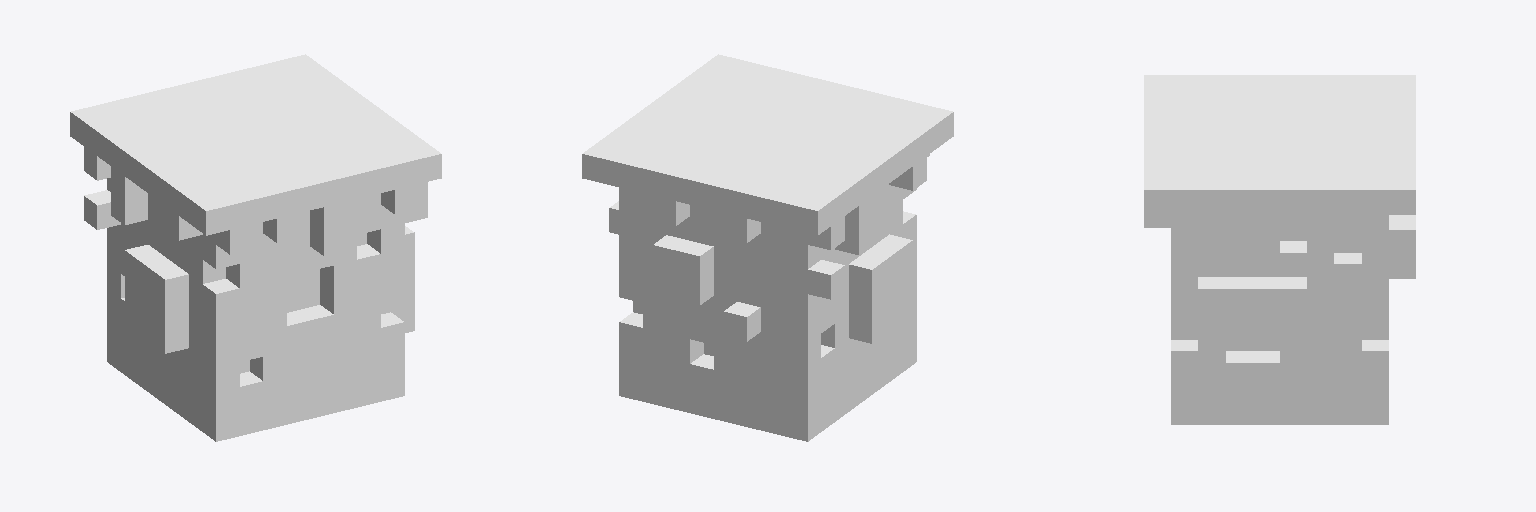
The model's file is brick_cut.obj.
3 renders of one model, left to right at view 1: azimuth 30°, elevation 25°; view 2: azimuth 150°, elevation 25°; view 3: azimuth 270°, elevation 25°, orthographic.
Bounding box in the file's own units: 10 × 10 × 10.